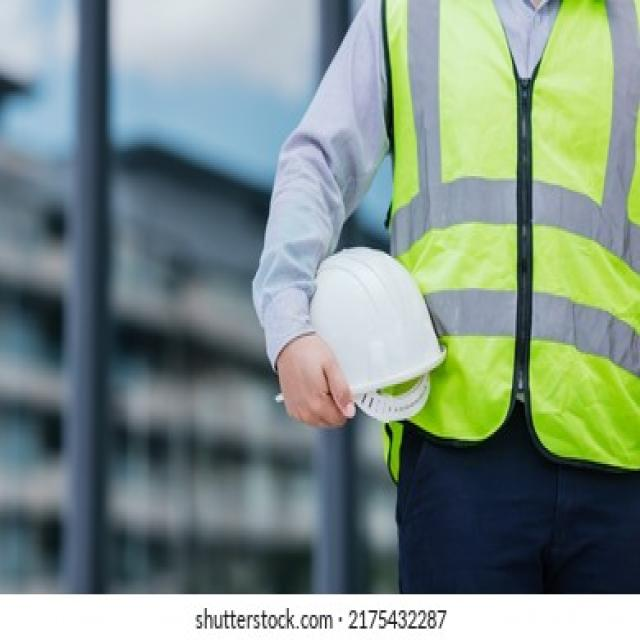vest: (369, 0, 640, 491)
